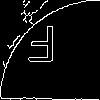F: (25, 25, 57, 72)
